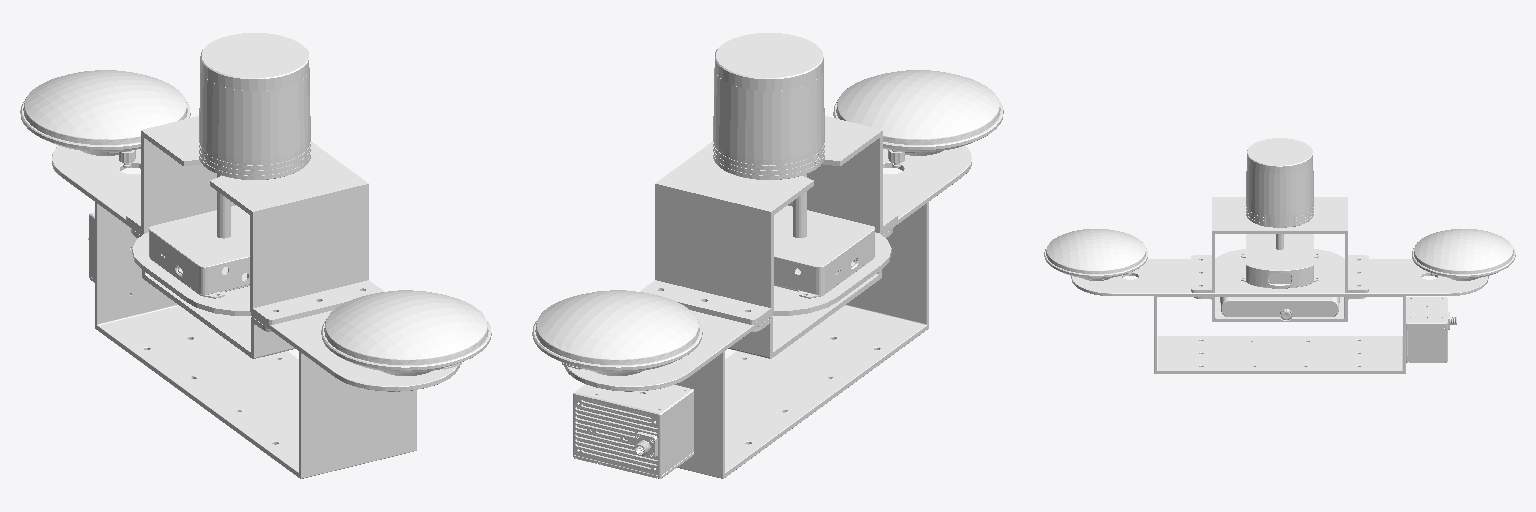
The robot description file, URDF, robot "data_box":
<?xml version="1.0" encoding="utf-8"?>
<!-- This URDF was automatically created by SolidWorks to URDF Exporter! Originally created by [author] ([email redacted]) 
     Commit Version: 1.6.0-1-g15f4949  Build Version: 1.6.7594.29634
     For more information, please see http://wiki.ros.org/sw_urdf_exporter -->
<robot
  name="data_box">
  <link
    name="base_link">
    <inertial>
      <origin
        xyz="-0.00100835069555272 -1.83075405323363E-05 -0.0526766687297455"
        rpy="0 0 0" />
      <mass
        value="1.15838359805273" />
      <inertia
        ixx="0.0219713158559028"
        ixy="-9.40626592111197E-07"
        ixz="9.27384200896455E-05"
        iyy="0.00422673444217098"
        iyz="-7.70783645651406E-07"
        izz="0.0207259268117321" />
    </inertial>
    <visual>
      <origin
        xyz="0 0 0"
        rpy="0 0 0" />
      <geometry>
        <mesh
          filename="package://data_box/meshes/base_link.STL" />
      </geometry>
      <material
        name="">
        <color
          rgba="1 1 1 1" />
      </material>
    </visual>
    <collision>
      <origin
        xyz="0 0 0"
        rpy="0 0 0" />
      <geometry>
        <mesh
          filename="package://data_box/meshes/base_link.STL" />
      </geometry>
    </collision>
  </link>
  <link
    name="rs_lidar_helios_16_link">
    <inertial>
      <origin
        xyz="-0.0045208 -7.8029E-05 -0.033042"
        rpy="0 0 0" />
      <mass
        value="0.11388" />
      <inertia
        ixx="0.0001253"
        ixy="1.1159E-07"
        ixz="3.3457E-07"
        iyy="0.00012408"
        iyz="-2.6658E-08"
        izz="0.00019563" />
    </inertial>
    <visual>
      <origin
        xyz="0 0 0"
        rpy="0 0 0" />
      <geometry>
        <mesh
          filename="package://data_box/meshes/rs_lidar_helios_16_link.STL" />
      </geometry>
      <material
        name="">
        <color
          rgba="1 1 1 1" />
      </material>
    </visual>
    <collision>
      <origin
        xyz="0 0 0"
        rpy="0 0 0" />
      <geometry>
        <mesh
          filename="package://data_box/meshes/rs_lidar_helios_16_link.STL" />
      </geometry>
    </collision>
  </link>
  <joint
    name="rs_lidar_helios_16_joint"
    type="fixed">
    <origin
      xyz="-0.00022092 0 0.1335"
      rpy="0 0 0" />
    <parent
      link="base_link" />
    <child
      link="rs_lidar_helios_16_link" />
    <axis
      xyz="0 0 0" />
  </joint>
  <link
    name="fix_position_link">
    <inertial>
      <origin
        xyz="-0.021223 0.00053568 -0.015052"
        rpy="0 0 0" />
      <mass
        value="0.11806" />
      <inertia
        ixx="0.00013"
        ixy="1.7385E-06"
        ixz="-7.0058E-08"
        iyy="0.00019464"
        iyz="2.5158E-07"
        izz="0.00031326" />
    </inertial>
    <visual>
      <origin
        xyz="0 0 0"
        rpy="0 0 0" />
      <geometry>
        <mesh
          filename="package://data_box/meshes/fix_position_link.STL" />
      </geometry>
      <material
        name="">
        <color
          rgba="1 1 1 1" />
      </material>
    </visual>
    <collision>
      <origin
        xyz="0 0 0"
        rpy="0 0 0" />
      <geometry>
        <mesh
          filename="package://data_box/meshes/fix_position_link.STL" />
      </geometry>
    </collision>
  </link>
  <joint
    name="fix_position_joint"
    type="fixed">
    <origin
      xyz="0 0 0"
      rpy="0 0 0" />
    <parent
      link="base_link" />
    <child
      link="fix_position_link" />
    <axis
      xyz="0 0 0" />
  </joint>
  <link
    name="rs_lidar_m1_link">
    <inertial>
      <origin
        xyz="-0.02201 -0.011402 -0.0034903"
        rpy="0 0 0" />
      <mass
        value="0.12514" />
      <inertia
        ixx="0.00012586"
        ixy="-2.5258E-07"
        ixz="-5.6245E-07"
        iyy="0.00012201"
        iyz="-8.5698E-07"
        izz="0.00021988" />
    </inertial>
    <visual>
      <origin
        xyz="0 0 0"
        rpy="0 0 0" />
      <geometry>
        <mesh
          filename="package://data_box/meshes/rs_lidar_m1_link.STL" />
      </geometry>
      <material
        name="">
        <color
          rgba="1 1 1 1" />
      </material>
    </visual>
    <collision>
      <origin
        xyz="0 0 0"
        rpy="0 0 0" />
      <geometry>
        <mesh
          filename="package://data_box/meshes/rs_lidar_m1_link.STL" />
      </geometry>
    </collision>
  </link>
  <joint
    name="rs_lidar_m1_joint"
    type="fixed">
    <origin
      xyz="0.0216900000000116 0 -0.12947"
      rpy="0 0 0" />
    <parent
      link="base_link" />
    <child
      link="rs_lidar_m1_link" />
    <axis
      xyz="0 0 0" />
  </joint>
  <link
    name="zed_2i_link">
    <inertial>
      <origin
        xyz="-0.0039036 2.1783E-05 0.014922"
        rpy="0 0 0" />
      <mass
        value="0.16808" />
      <inertia
        ixx="0.00038491"
        ixy="6.7993E-09"
        ixz="-6.9649E-08"
        iyy="3.2681E-05"
        iyz="1.8654E-09"
        izz="0.00039281" />
    </inertial>
    <visual>
      <origin
        xyz="0 0 0"
        rpy="0 0 0" />
      <geometry>
        <mesh
          filename="package://data_box/meshes/zed_2i_link.STL" />
      </geometry>
      <material
        name="">
        <color
          rgba="1 1 1 1" />
      </material>
    </visual>
    <collision>
      <origin
        xyz="0 0 0"
        rpy="0 0 0" />
      <geometry>
        <mesh
          filename="package://data_box/meshes/zed_2i_link.STL" />
      </geometry>
    </collision>
  </link>
  <joint
    name="zed_2i_joint"
    type="fixed">
    <origin
      xyz="0.044285 0 -0.071"
      rpy="0 0 0" />
    <parent
      link="base_link" />
    <child
      link="zed_2i_link" />
    <axis
      xyz="0 0 1" />
  </joint>
  <link
    name="livox_avia_link">
    <inertial>
      <origin
        xyz="-0.04583 0.00027976 -7.3131E-05"
        rpy="0 0 0" />
      <mass
        value="0.35" />
      <inertia
        ixx="0.00022716"
        ixy="3.0556E-06"
        ixz="-7.8682E-08"
        iyy="0.00036482"
        iyz="4.2062E-08"
        izz="0.00034741" />
    </inertial>
    <visual>
      <origin
        xyz="0 0 0"
        rpy="0 0 0" />
      <geometry>
        <mesh
          filename="package://data_box/meshes/livox_avia_link.STL" />
      </geometry>
      <material
        name="">
        <color
          rgba="1 1 1 1" />
      </material>
    </visual>
    <collision>
      <origin
        xyz="0 0 0"
        rpy="0 0 0" />
      <geometry>
        <mesh
          filename="package://data_box/meshes/livox_avia_link.STL" />
      </geometry>
    </collision>
  </link>
  <joint
    name="livox_avia_joint"
    type="fixed">
    <origin
      xyz="0.0609 0.2146 -0.11"
      rpy="0 0 0" />
    <parent
      link="base_link" />
    <child
      link="livox_avia_link" />
    <axis
      xyz="0 0 0" />
  </joint>
  <link
    name="antenna_left_link">
    <inertial>
      <origin
        xyz="-0.00019466 -0.0025902 0.045614"
        rpy="0 0 0" />
      <mass
        value="0.063514" />
      <inertia
        ixx="0.00010182"
        ixy="-6.0746E-08"
        ixz="1.2678E-08"
        iyy="0.00010183"
        iyz="1.0459E-08"
        izz="0.00019874" />
    </inertial>
    <visual>
      <origin
        xyz="0 0 0"
        rpy="0 0 0" />
      <geometry>
        <mesh
          filename="package://data_box/meshes/antenna_left_link.STL" />
      </geometry>
      <material
        name="">
        <color
          rgba="1 1 1 1" />
      </material>
    </visual>
    <collision>
      <origin
        xyz="0 0 0"
        rpy="0 0 0" />
      <geometry>
        <mesh
          filename="package://data_box/meshes/antenna_left_link.STL" />
      </geometry>
    </collision>
  </link>
  <joint
    name="antenna_left_joint"
    type="fixed">
    <origin
      xyz="0.0009 0.26873 -0.03"
      rpy="0 0 0" />
    <parent
      link="base_link" />
    <child
      link="antenna_left_link" />
    <axis
      xyz="0 0 1" />
  </joint>
  <link
    name="antenna_right_link">
    <inertial>
      <origin
        xyz="-0.00019235 0.0025904 0.045615"
        rpy="0 0 0" />
      <mass
        value="0.063519" />
      <inertia
        ixx="0.00010182"
        ixy="5.9875E-08"
        ixz="1.2265E-08"
        iyy="0.00010183"
        iyz="-1.05E-08"
        izz="0.00019874" />
    </inertial>
    <visual>
      <origin
        xyz="0 0 0"
        rpy="0 0 0" />
      <geometry>
        <mesh
          filename="package://data_box/meshes/antenna_right_link.STL" />
      </geometry>
      <material
        name="">
        <color
          rgba="1 1 1 1" />
      </material>
    </visual>
    <collision>
      <origin
        xyz="0 0 0"
        rpy="0 0 0" />
      <geometry>
        <mesh
          filename="package://data_box/meshes/antenna_right_link.STL" />
      </geometry>
    </collision>
  </link>
  <joint
    name="antenna_right_joint"
    type="fixed">
    <origin
      xyz="0.0009 -0.26873 -0.03"
      rpy="0 0 0" />
    <parent
      link="base_link" />
    <child
      link="antenna_right_link" />
    <axis
      xyz="0 0 1" />
  </joint>
</robot>

--- Facts derived from the render (not from the file) ---
Views: 3 orthographic renders of the robot side by side, from view 1: azimuth 30°, elevation 25°; view 2: azimuth 150°, elevation 25°; view 3: azimuth 270°, elevation 25°.
Robot: data_box — 8 links, 7 joints (7 fixed); root link base_link; default pose: all joints at 0.
Visible links, largest first — view 1: base_link, rs_lidar_helios_16_link, antenna_right_link, antenna_left_link, fix_position_link; view 2: base_link, rs_lidar_helios_16_link, antenna_left_link, antenna_right_link, livox_avia_link, fix_position_link; view 3: base_link, rs_lidar_helios_16_link, antenna_right_link, antenna_left_link, fix_position_link, livox_avia_link, zed_2i_link.
Link boxes in pixels (x1,y1,x2,y2): base_link: [52, 116, 459, 478]; rs_lidar_helios_16_link: [199, 33, 310, 238]; antenna_right_link: [321, 290, 491, 375]; antenna_left_link: [20, 70, 190, 167]; fix_position_link: [149, 205, 249, 298]; base_link: [564, 116, 971, 478]; rs_lidar_helios_16_link: [713, 33, 824, 237]; antenna_left_link: [532, 290, 702, 375]; antenna_right_link: [833, 70, 1003, 167]; livox_avia_link: [573, 384, 693, 478]; fix_position_link: [774, 205, 874, 298]; base_link: [1071, 197, 1488, 373]; rs_lidar_helios_16_link: [1246, 138, 1313, 249]; antenna_right_link: [1044, 229, 1147, 280]; antenna_left_link: [1412, 229, 1515, 280]; fix_position_link: [1241, 234, 1318, 288]; livox_avia_link: [1406, 297, 1456, 362]; zed_2i_link: [1220, 297, 1339, 321].
Bounding box of the posed robot: 0.1708 × 0.689 × 0.33 m (x, y, z).
Meshes: 8 distinct files referenced, 7 mesh visuals loaded (7 binary STL); not drawn: 1 (reference not matched to a file when rendering).